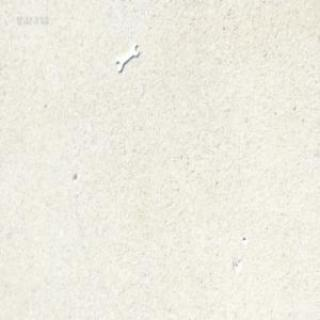Wrenchtrack_idkeyframe: (115, 40, 138, 70)
